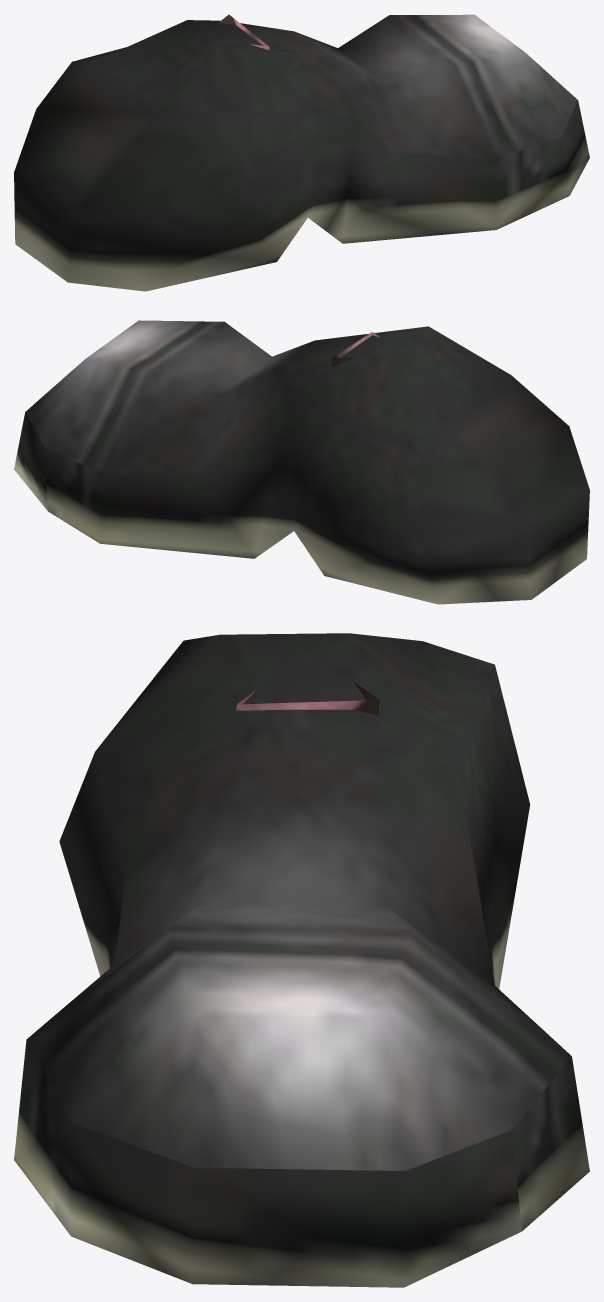
The model's file is Robot01.LeftFoot1.fbx.
The picture shows the model from 3 angles, top to bottom: view 1: azimuth 30°, elevation 25°; view 2: azimuth 150°, elevation 25°; view 3: azimuth 270°, elevation 25°; orthographic projection. The views are drawn at different scales.
Visible parts, largest first — view 1: Robot.006; view 2: Robot.006; view 3: Robot.006.
Boxes of the visible parts, x1,y1,x2,y2 form: Robot.006: (14, 14, 589, 291); Robot.006: (14, 320, 589, 604); Robot.006: (14, 633, 589, 1287).
Size of the model in its own units: 50.31 by 18.51 by 27.4.
